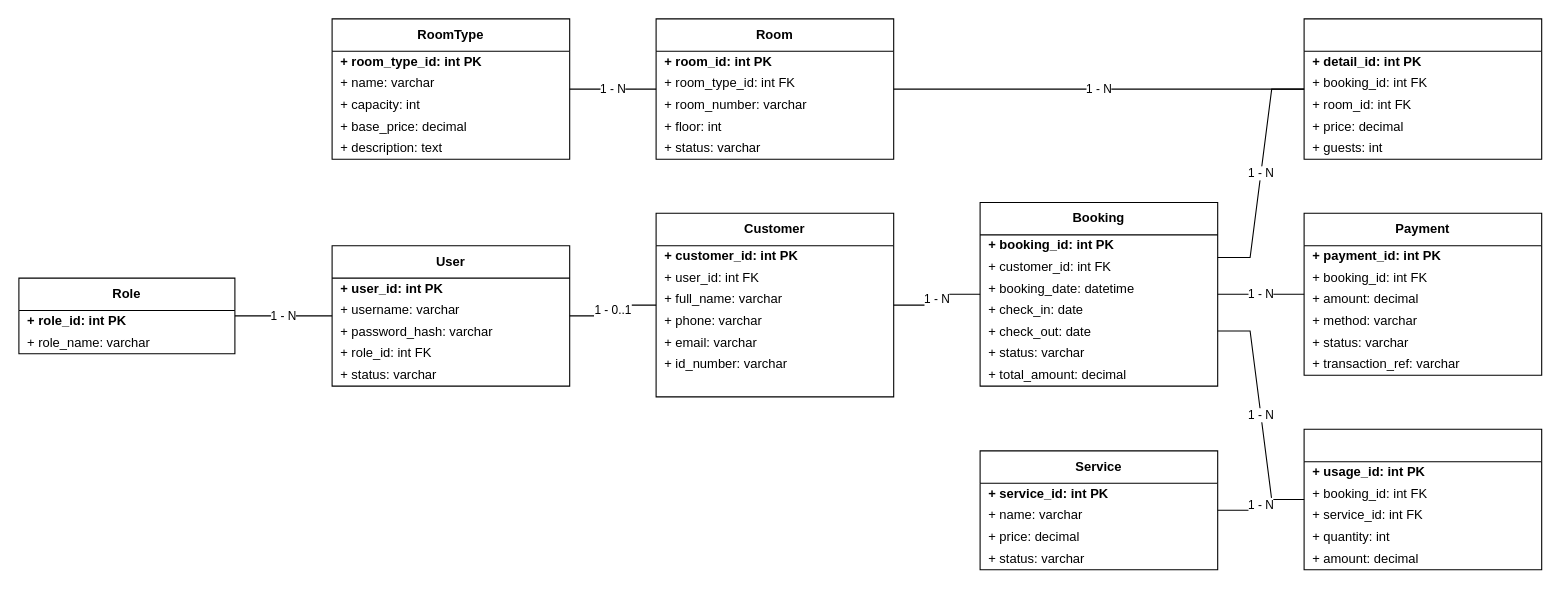
Image size: 1561x589. Some labels were removed from this diagram. Here are the shapes that lost their labels. From the top down, the box of each, then its label:
(1303, 18, 1542, 159): BookingDetail
(1303, 428, 1542, 570): ServiceUsage
